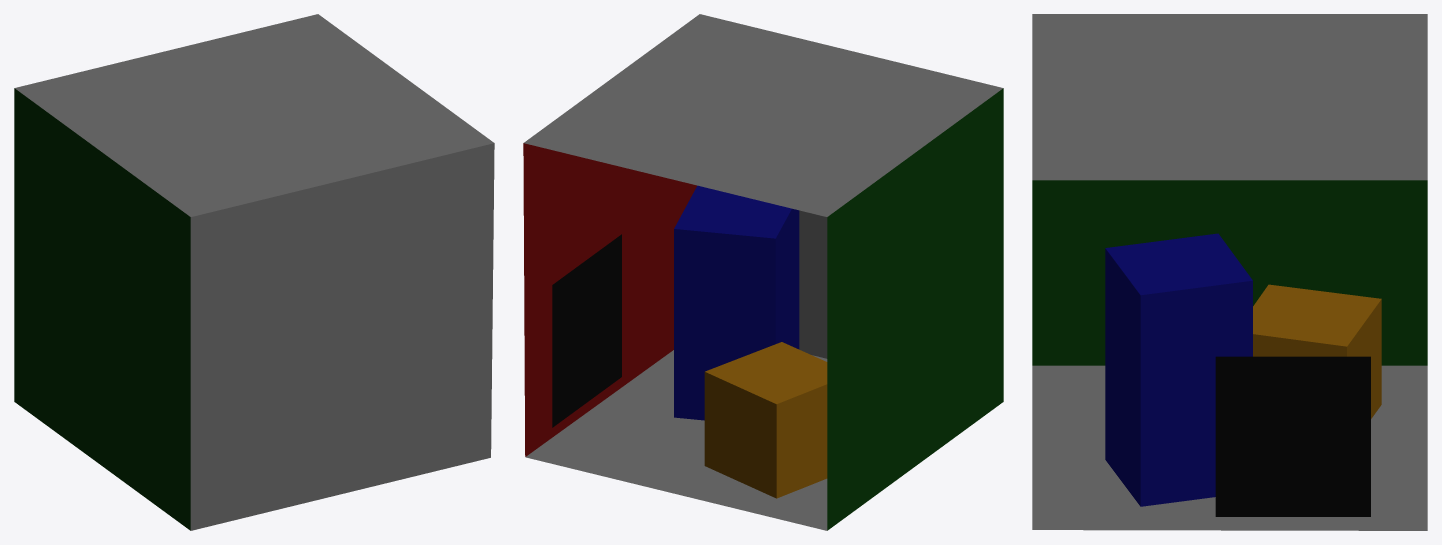
Rendered from cornell_box_VI_testing.obj.
3 renders of one model, left to right at view 1: azimuth 30°, elevation 25°; view 2: azimuth 150°, elevation 25°; view 3: azimuth 270°, elevation 25°, orthographic. The views are drawn at different scales.
Parts seen in each view (by area): view 1: back_wall, green_wall, ceiling; view 2: green_wall, ceiling, red_wall, tall_block, floor, short_block, mirror, back_wall; view 3: ceiling, green_wall, tall_block, floor, mirror, short_block.
Boxes of the visible parts, x1,y1,x2,y2 form: back_wall: (190,143,494,530); green_wall: (14,88,190,530); ceiling: (14,14,493,216); green_wall: (827,88,1003,530); ceiling: (524,14,1003,216); red_wall: (523,143,696,456); tall_block: (674,185,799,420); floor: (525,350,827,530); short_block: (704,342,827,498); mirror: (552,234,621,427); back_wall: (799,210,827,358); ceiling: (1032,14,1427,180); green_wall: (1032,180,1427,365); tall_block: (1105,233,1252,506); floor: (1032,365,1427,530); mirror: (1215,356,1370,516); short_block: (1253,284,1381,418).
Bounding box in the file's own units: 556 × 549 × 559.
